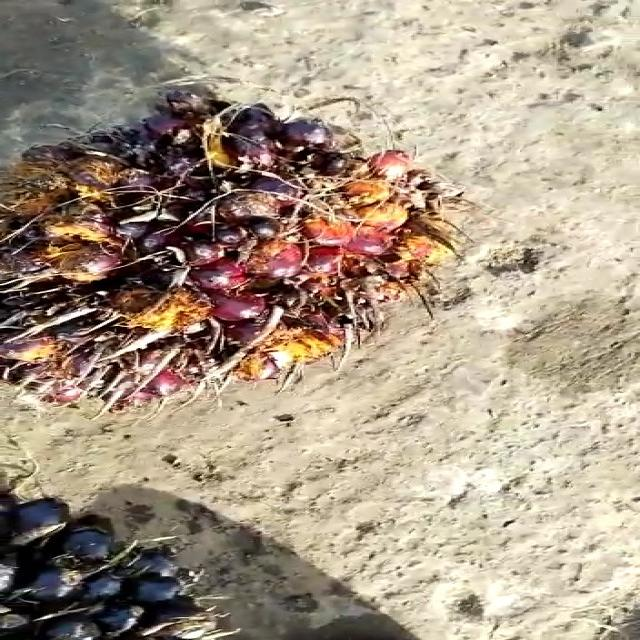palm oil: (0, 90, 471, 413)
